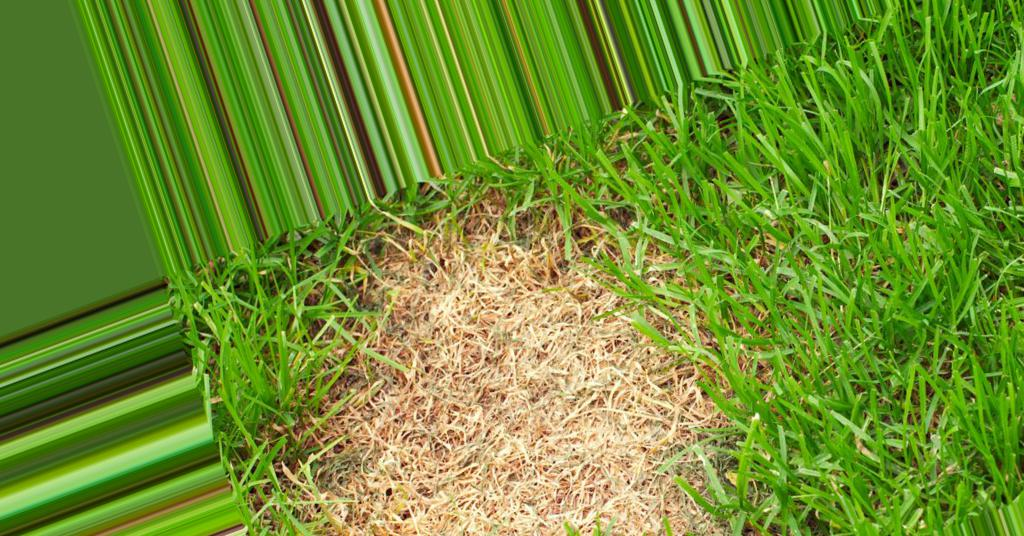patch: (414, 325, 616, 489), (433, 262, 533, 326), (447, 505, 501, 536)
